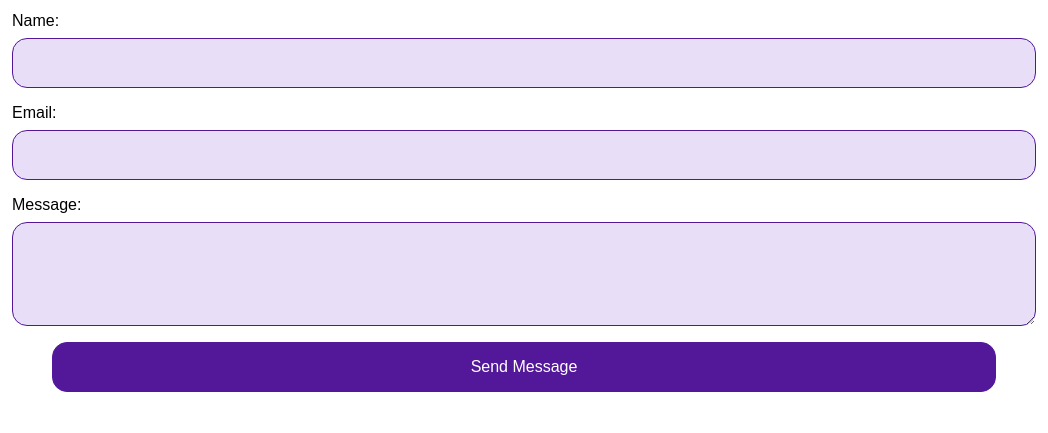
Scenario: ContactForm › shows field errors and keeps what was typed
Type "Ada" into the field labelled "Name:" at (524, 63), box [12, 38, 1036, 88]
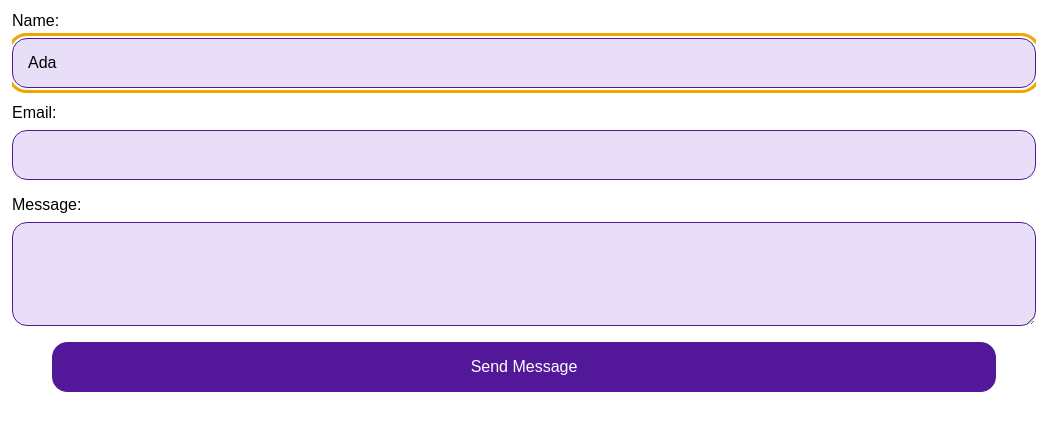
Type "ada@example" into the field labelled "Email:" at (524, 155), box [12, 130, 1036, 180]
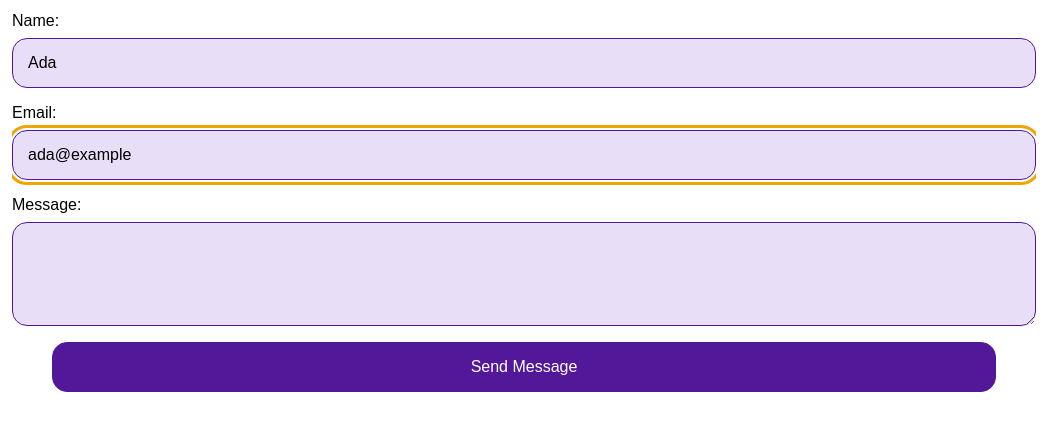
Type "Hello" into the text box labelled "Message:" at (524, 274), box [12, 222, 1036, 326]
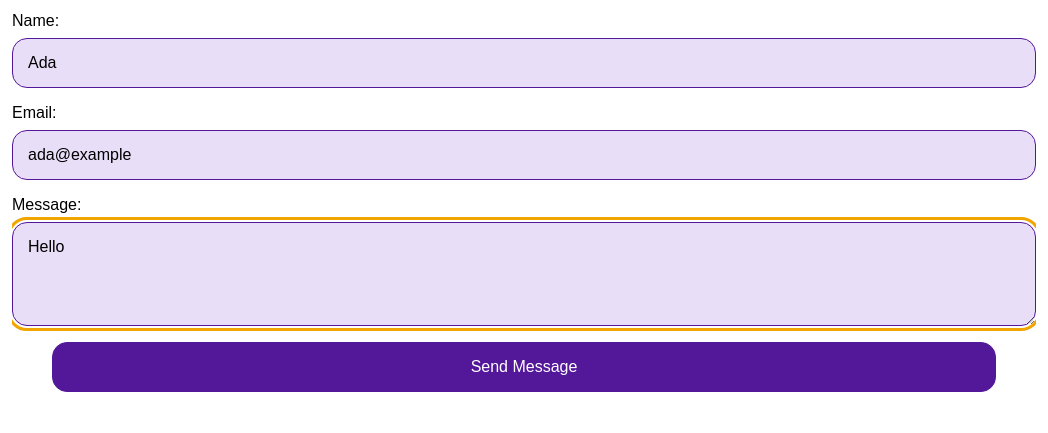
Click the button "Send Message" at (524, 367), box [52, 342, 996, 392]
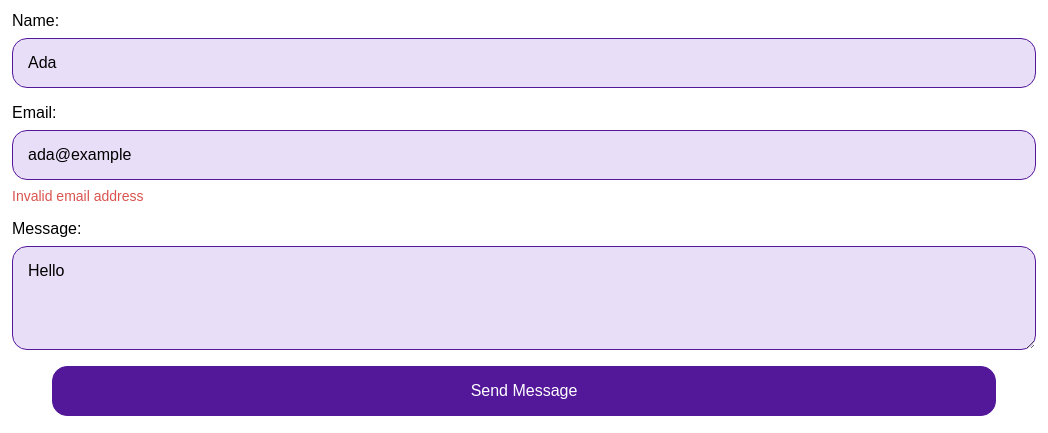
Expected: the text "Invalid email address" is shown, [12, 188, 144, 204]
